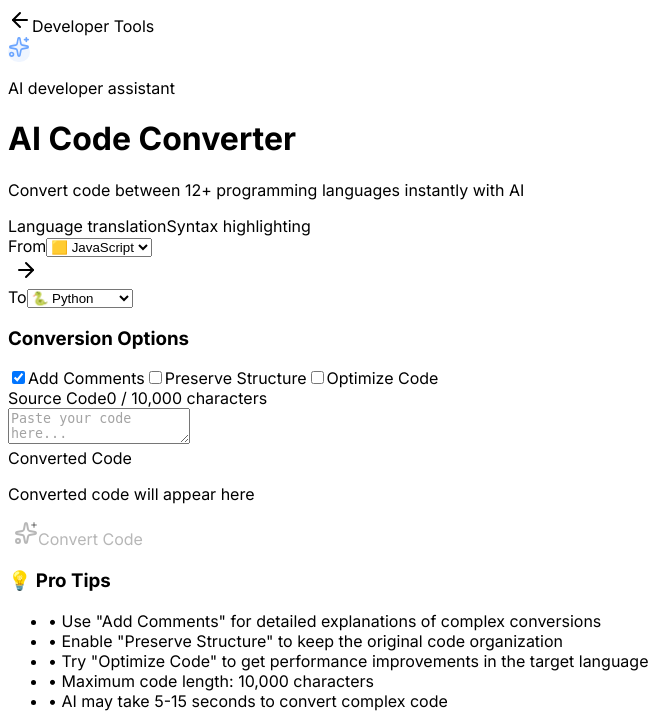
Test: AICodeConverterPage › Source Code Input › updates character count when typing
Type "const x = 1;" into the text box with placeholder "Paste your code here..." at (99,426), box [8,408,190,444]
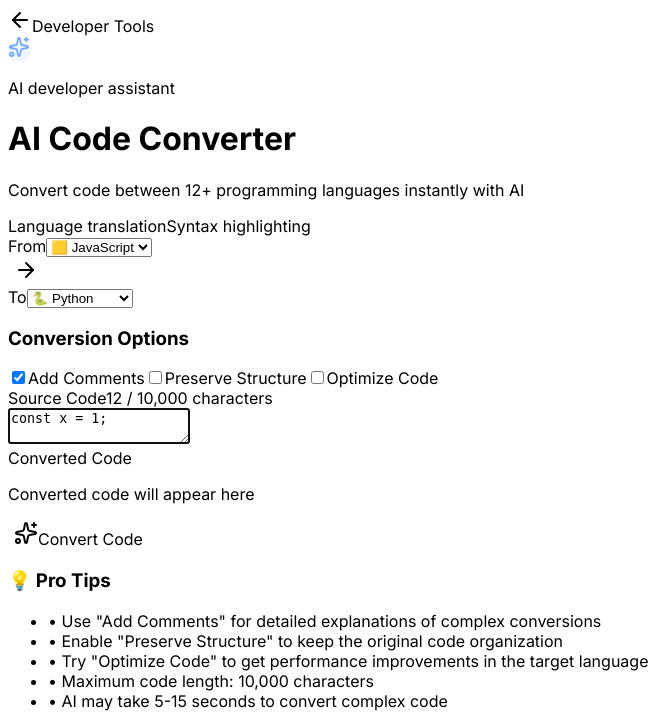
Check: the text "12 / 10,000 characters" is shown, box [106,388,273,408]
